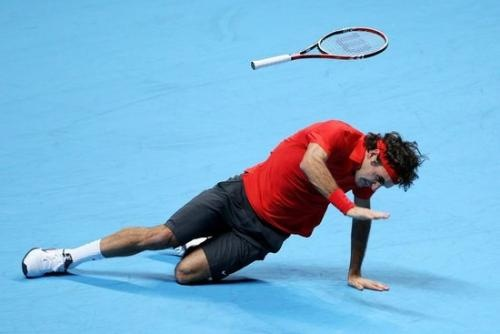falling: (14, 104, 427, 297)
